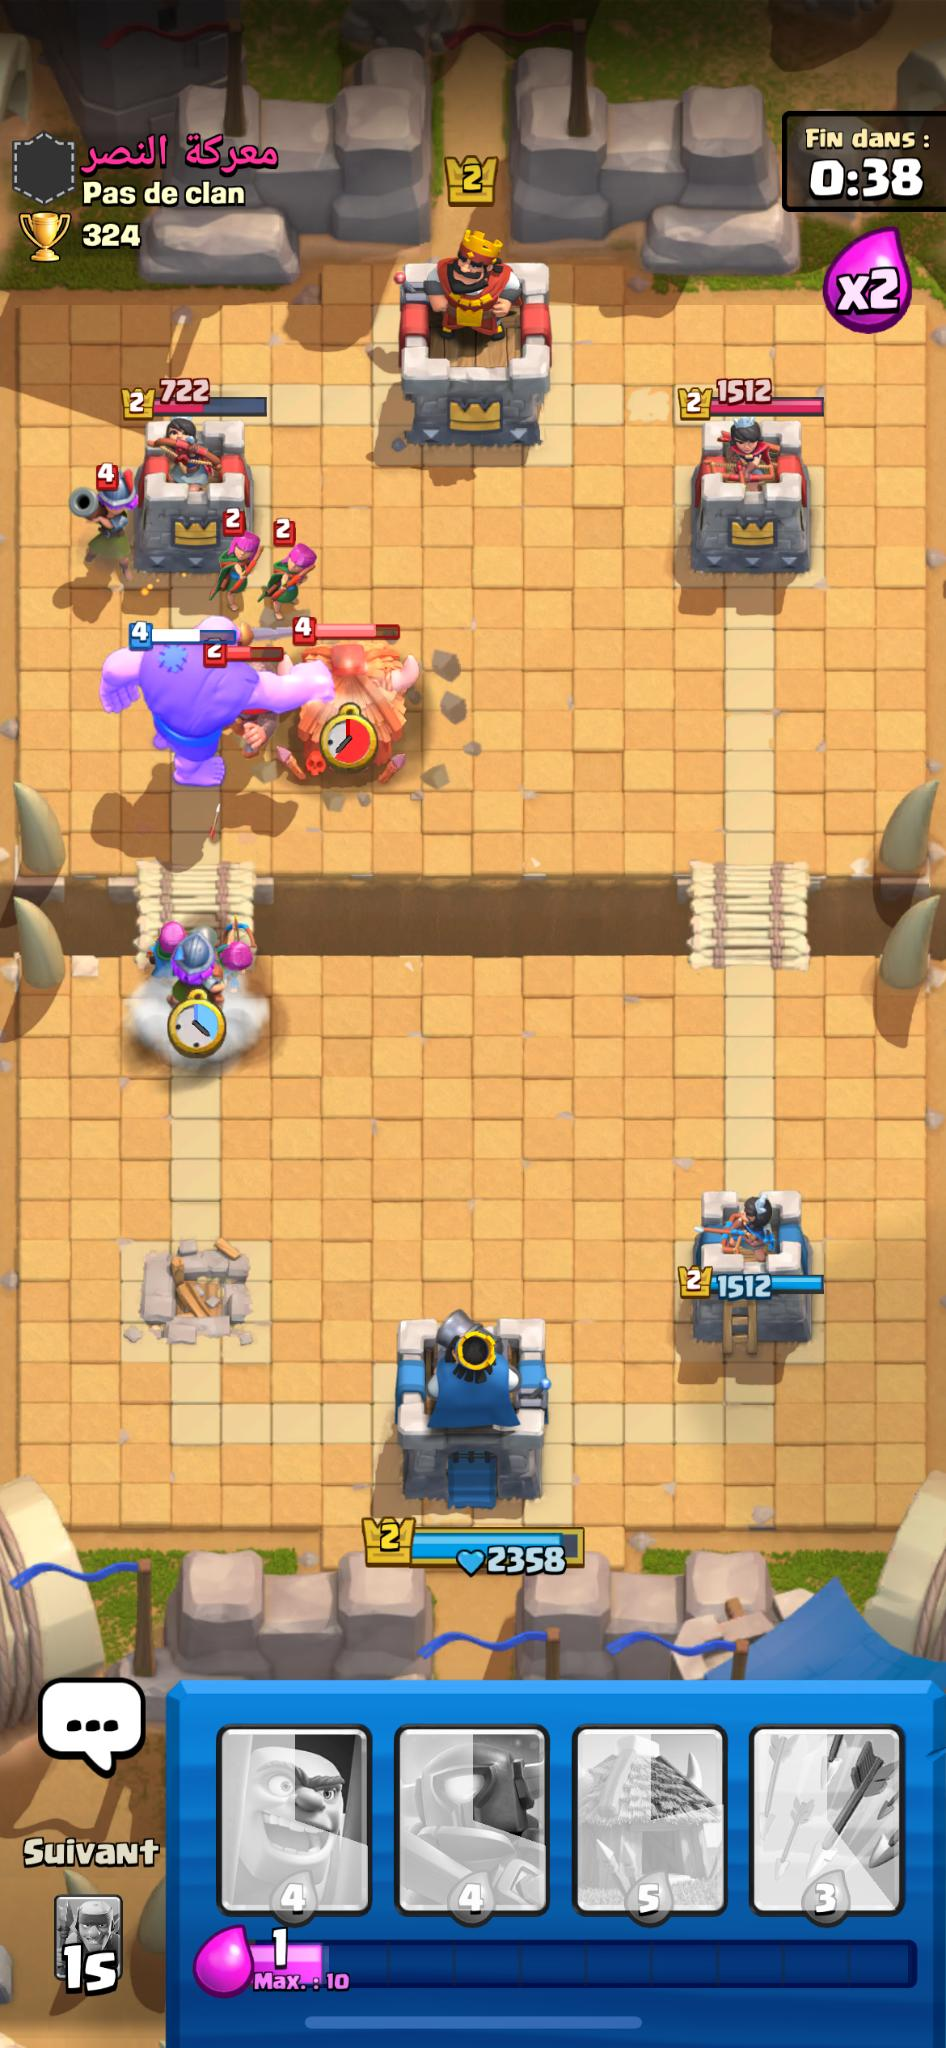archere: (204, 500, 270, 611), (259, 521, 336, 614), (135, 892, 204, 991), (210, 908, 268, 998)
geant: (88, 619, 286, 793)
mousquetaire: (42, 444, 171, 552), (149, 930, 246, 1017)
